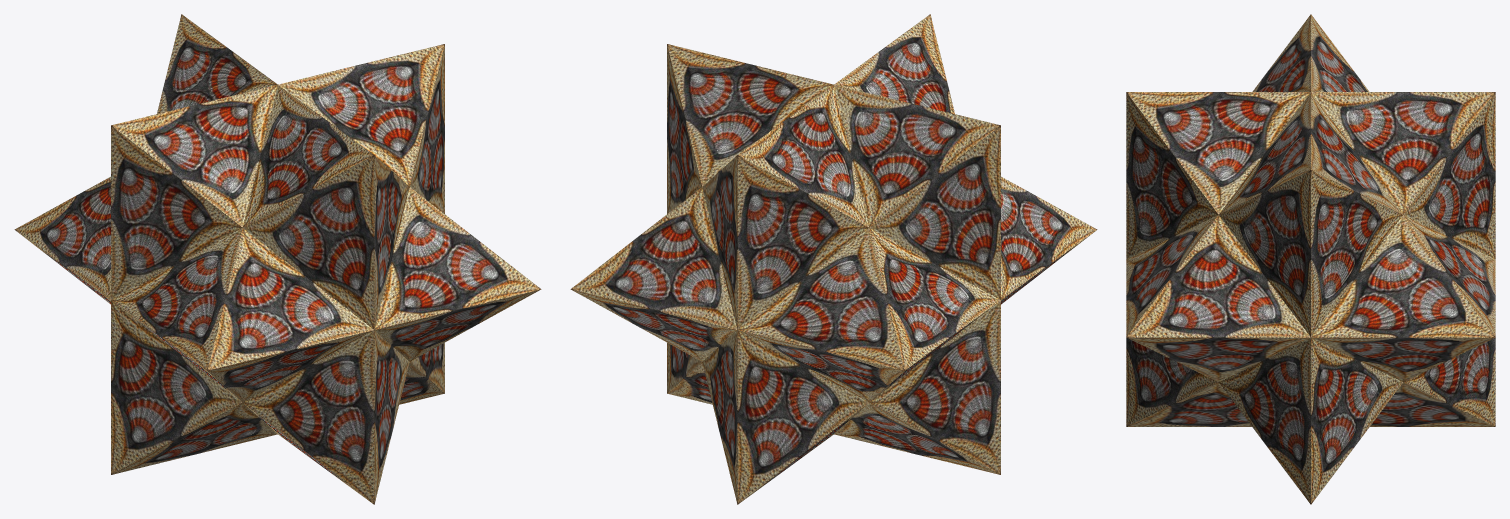
The model's file is Escher14.obj.
3 views of the same model, side by side, from view 1: azimuth 30°, elevation 25°; view 2: azimuth 150°, elevation 25°; view 3: azimuth 270°, elevation 25° (orthographic). The views are drawn at different scales.
Bounding box in the file's own units: 2 × 2 × 2.
Materials: 1 (1 with a texture image).
